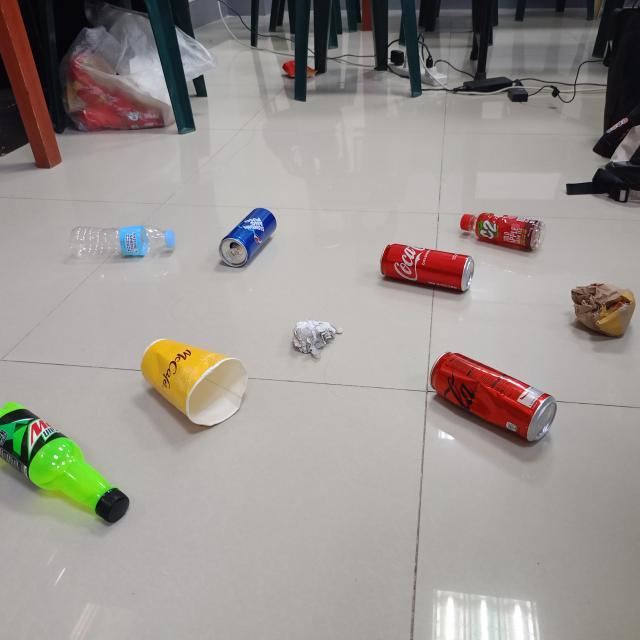recyclable waste: (0, 394, 135, 528), (424, 346, 560, 448), (134, 332, 253, 430), (375, 236, 478, 297), (62, 219, 178, 263), (565, 277, 640, 344), (215, 204, 285, 273), (456, 208, 550, 255), (286, 314, 346, 362)
